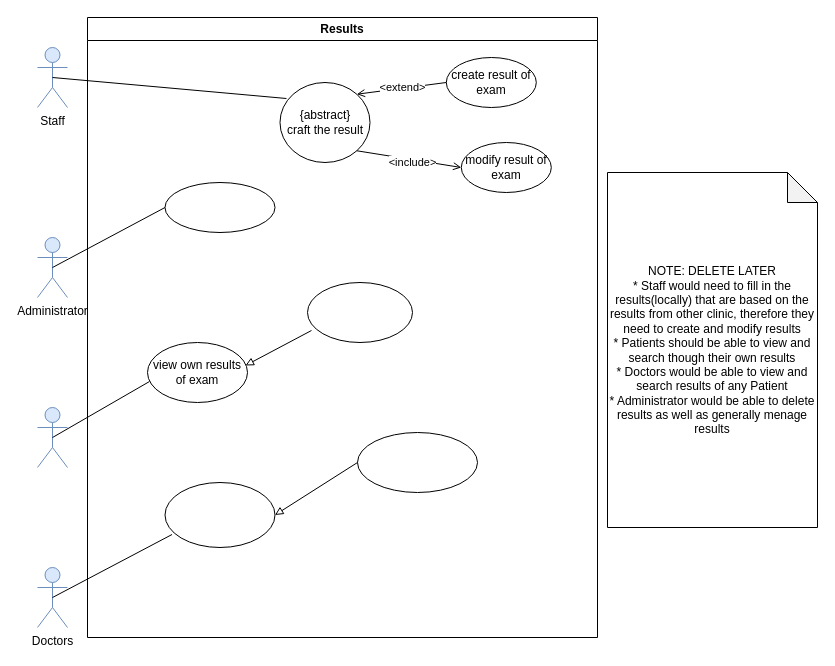
This 835x666 diagram has some shape labels left out. Here are the shapes that lost their labels. From the top down, the centre of each, then its label:
At (219,207): "delete results of exam".
At (359,312): "search for own results of exam".
At (52,437): "Patients".
At (417,462): "search for other's results of exam".
At (219,515): "view other's results of exam".
